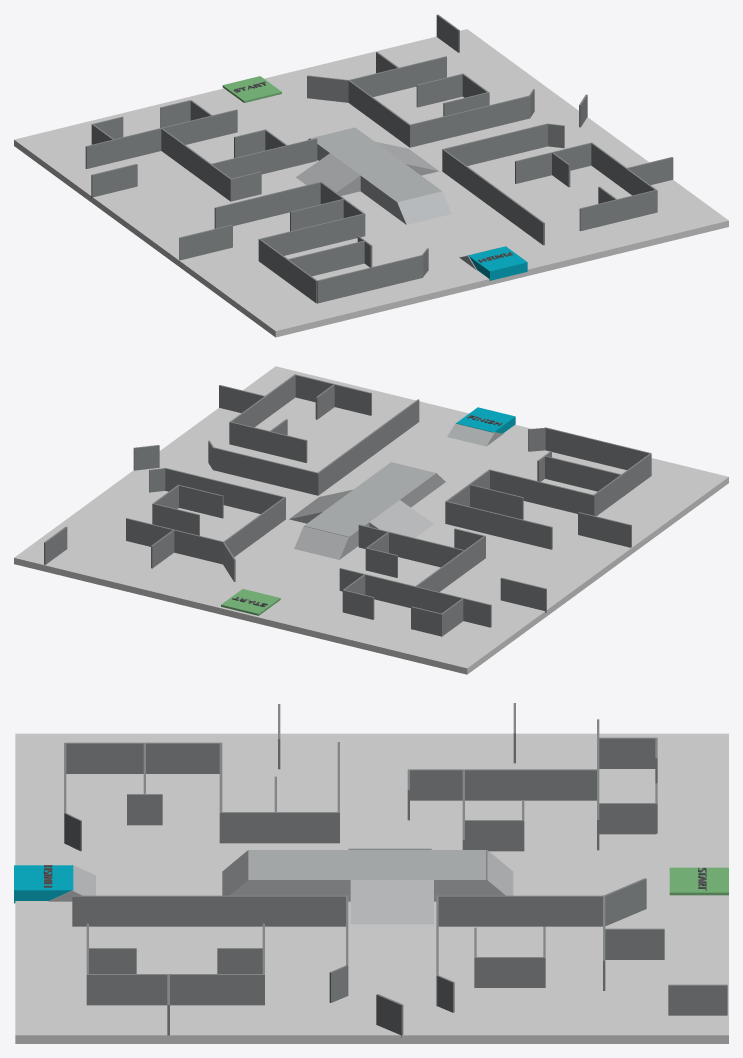
Rendered from Land_of_TPTC.glb.
The picture shows the model from 3 angles, top to bottom: view 1: azimuth 30°, elevation 25°; view 2: azimuth 150°, elevation 25°; view 3: azimuth 270°, elevation 25°; orthographic projection. The views are drawn at different scales.
Parts seen in each view (by area): view 1: Mesh_Mesh_head_geo.001_lambert2SG.001; view 2: Mesh_Mesh_head_geo.001_lambert2SG.001; view 3: Mesh_Mesh_head_geo.001_lambert2SG.001.
Part boxes in pixels (<box>): Mesh_Mesh_head_geo.001_lambert2SG.001: <box>14,14,728,337</box>; Mesh_Mesh_head_geo.001_lambert2SG.001: <box>14,366,728,674</box>; Mesh_Mesh_head_geo.001_lambert2SG.001: <box>14,703,728,1043</box>.
Size of the model in its own units: 0.3007 by 0.0181 by 0.3005.
